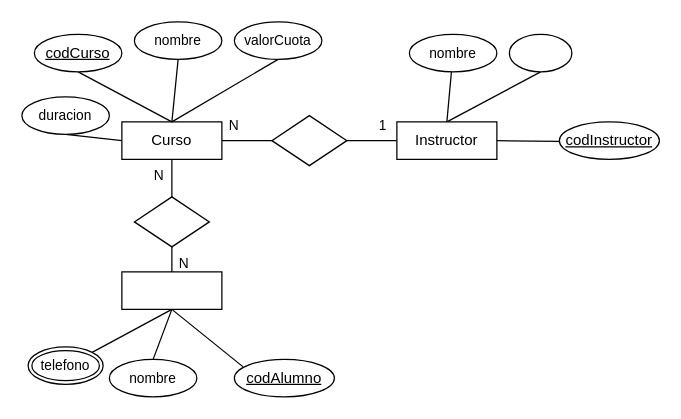
Image size: 681x419. Some labels were removed from this diagram. Each missing label, with the centre of its shape:
"Alumno" goes at point (171, 290).
"correo" goes at point (540, 52).
"cursar" goes at point (171, 221).
"dicta" goes at point (309, 140).
